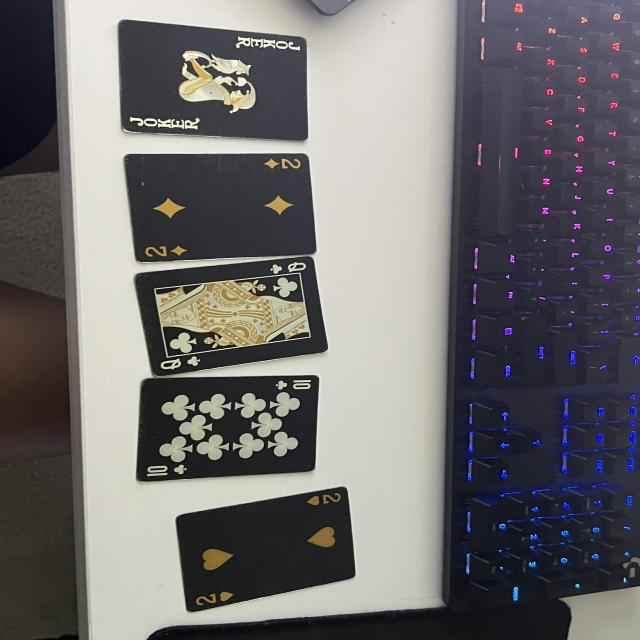10C: (144, 464, 192, 478), (275, 376, 315, 391)
2D: (253, 157, 306, 171), (145, 242, 190, 258)
2H: (195, 588, 236, 607), (308, 490, 343, 507)
BLACK JOKER: (128, 111, 203, 133), (233, 34, 303, 54)
QC: (161, 355, 205, 371), (263, 261, 311, 274)
